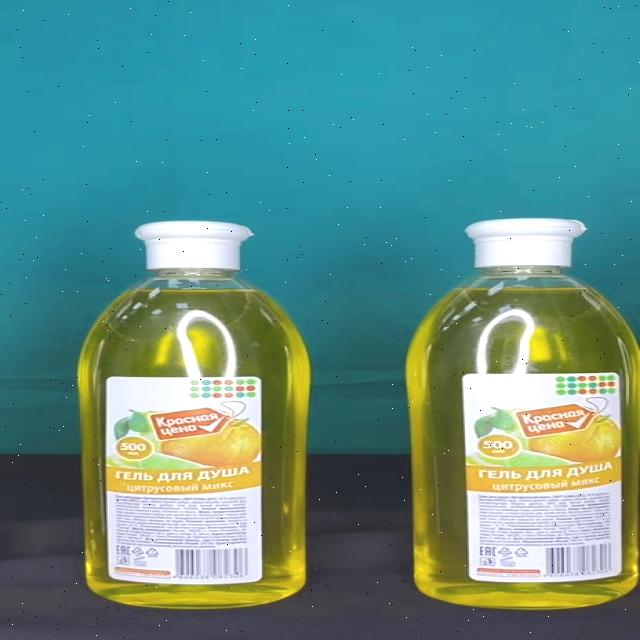Bottle: (406, 219, 640, 609), (79, 221, 311, 609)
Cap: (464, 219, 586, 268), (134, 222, 254, 270)
